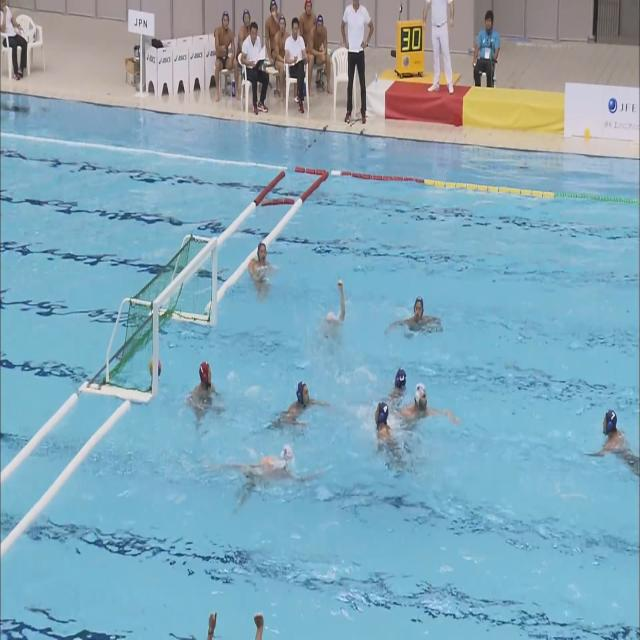ball: (150, 358, 161, 376)
